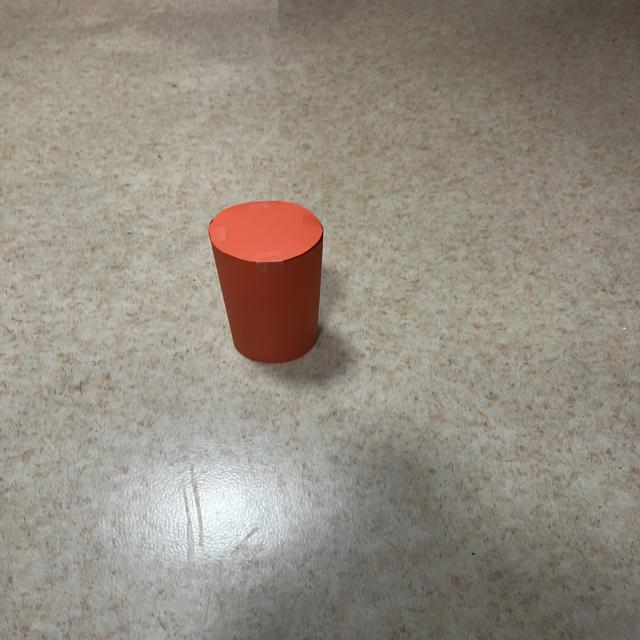przeszkoda: (208, 201, 323, 363), (288, 213, 292, 217)
